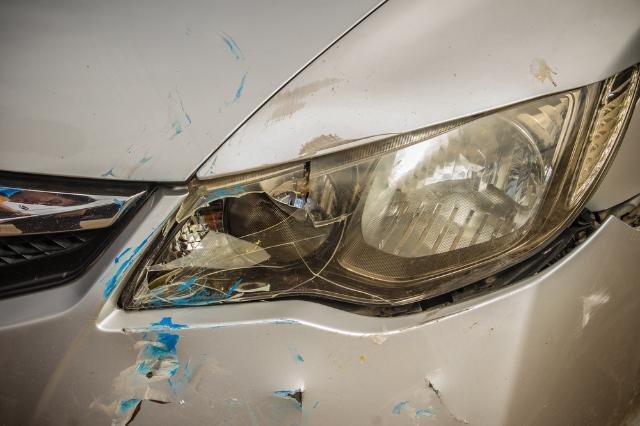crack: (124, 399, 175, 426)
lamp broken: (119, 93, 578, 310)
scratch: (93, 316, 198, 426), (577, 282, 614, 335)
